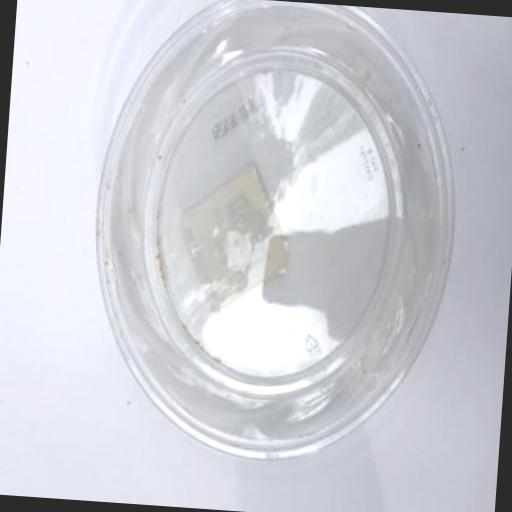plastic: (79, 0, 468, 473)
